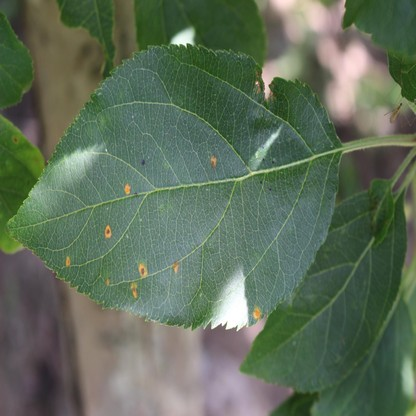rust: (138, 265, 147, 279), (130, 283, 138, 297), (253, 306, 261, 318), (210, 153, 217, 165), (105, 225, 111, 237), (173, 260, 178, 273), (124, 184, 131, 192), (66, 254, 70, 266), (105, 277, 110, 284)
